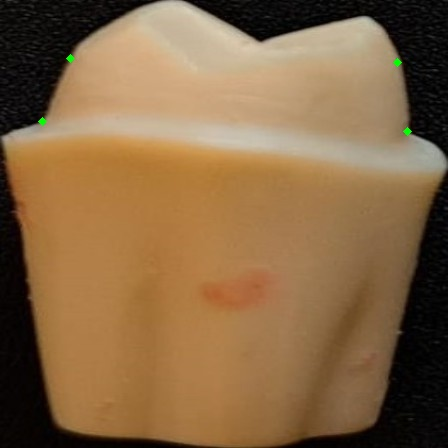coin_1: (407, 131, 427, 151)
coin_2: (397, 62, 417, 82)
coin_3: (42, 121, 62, 141)
coin_4: (70, 58, 90, 78)
